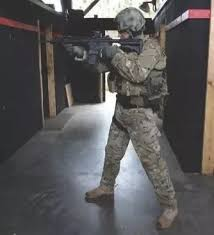Gun: (57, 32, 142, 64)
